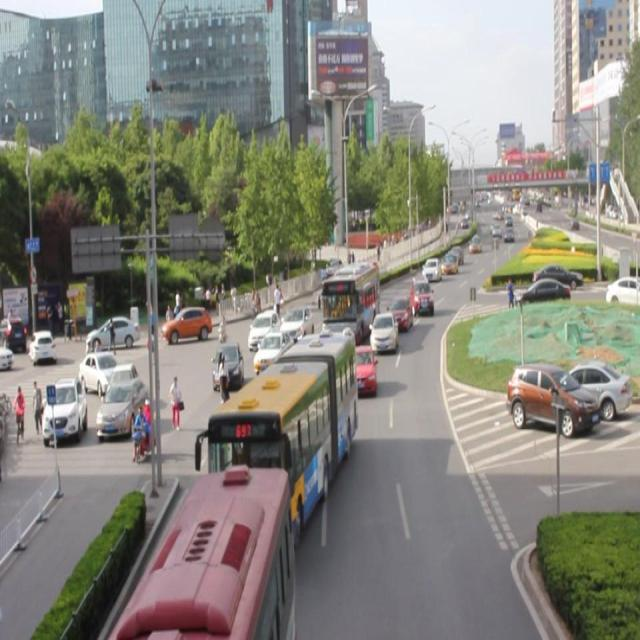car: (253, 363, 297, 423), (252, 328, 294, 370), (346, 341, 376, 395), (210, 331, 243, 379), (276, 293, 312, 336), (247, 298, 280, 340), (367, 309, 396, 350), (385, 292, 412, 329), (408, 275, 432, 315)
van: (207, 331, 354, 535), (123, 469, 291, 640), (322, 263, 379, 339)
